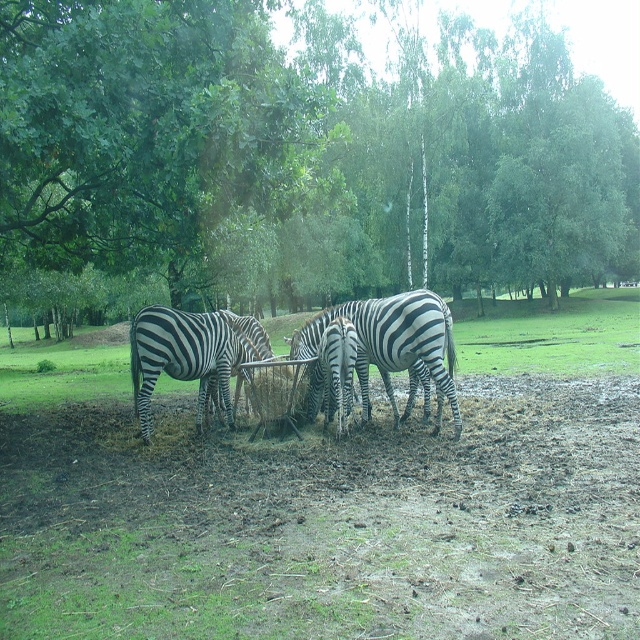Zebra: (129, 288, 465, 446)
